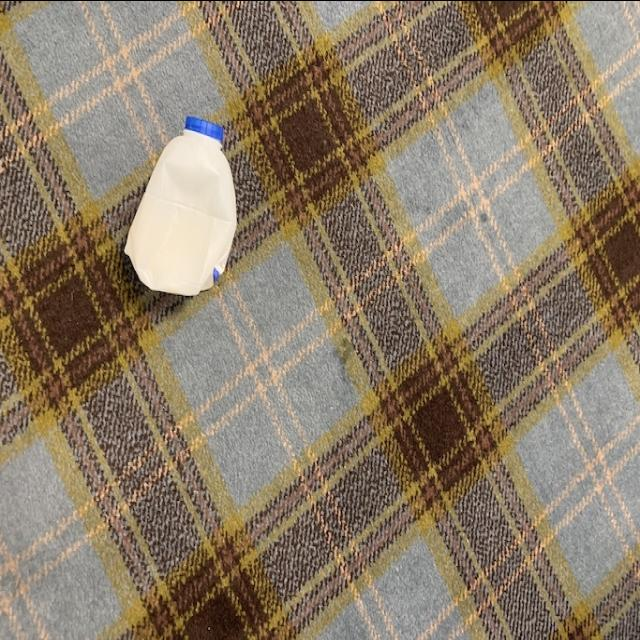litter: (120, 105, 244, 300)
